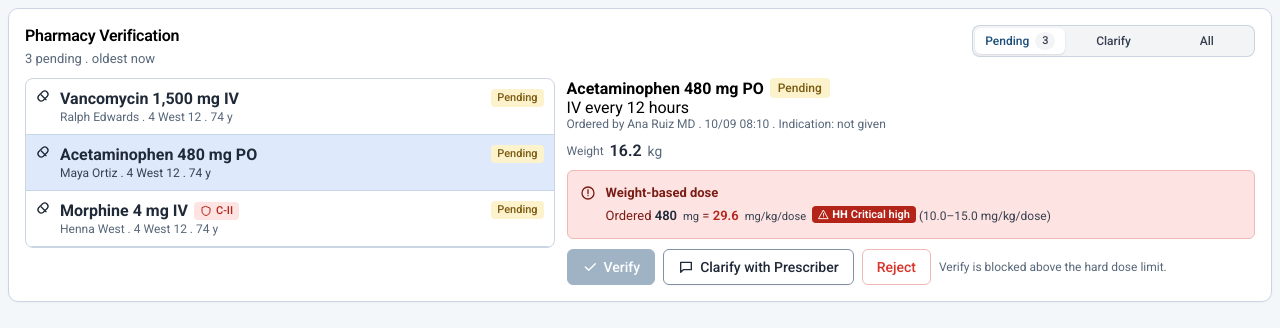
PharmacyVerificationQueue › blocks Verify above the hard dose limit but allows Reject
Expected: the button "Verify" is disabled, [567,249,655,285]
Expected: the message shows "Weight-based dose", [606,185,718,200]
Click the button "Reject".
click(896, 267)  # box [862,249,931,285]
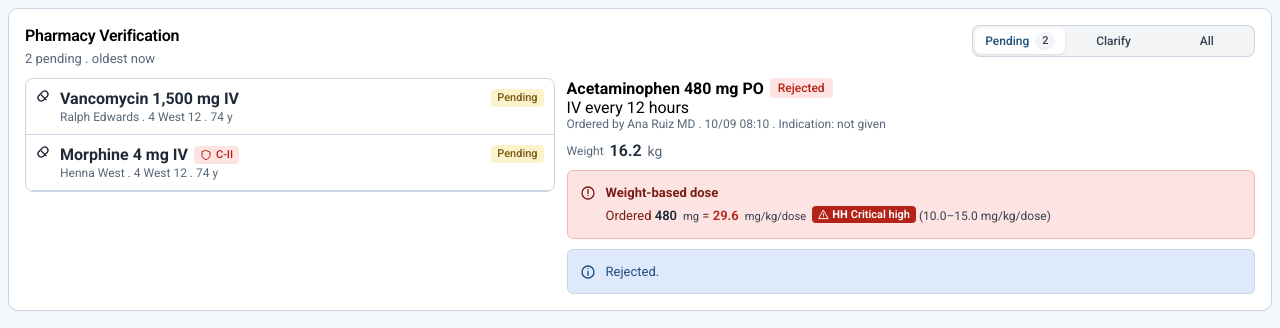
Expected: the text "Rejected." is shown, [606,264,659,279]
